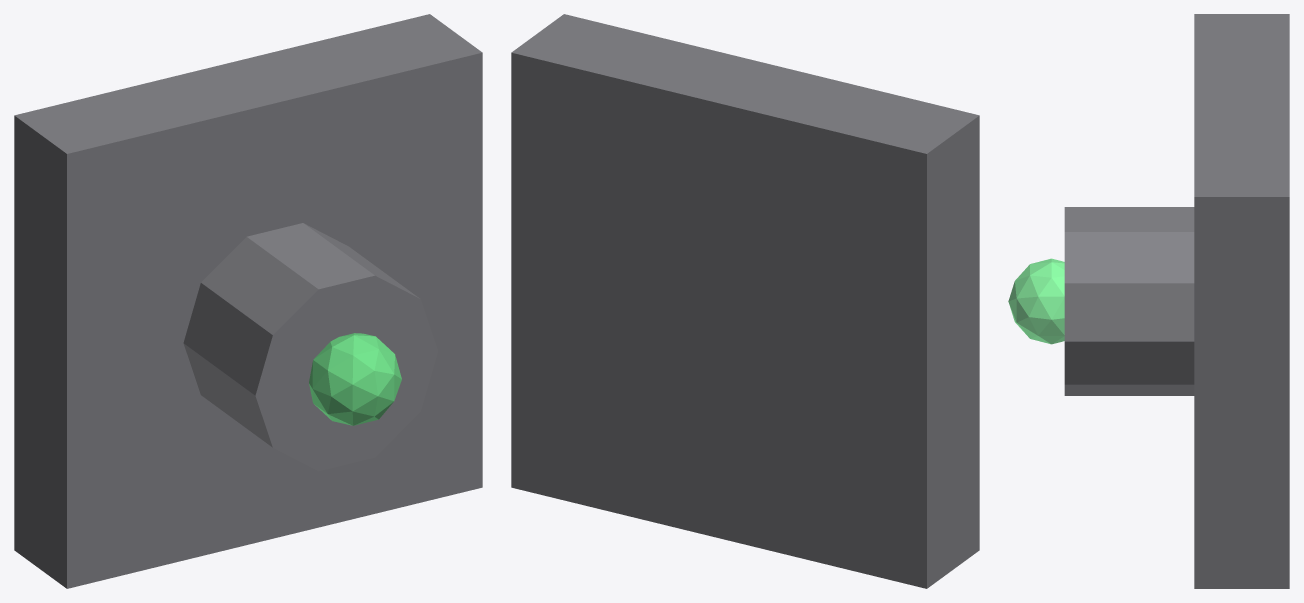
Rendered from elemental_orb_socket.glb.
3 renders of one model, left to right at view 1: azimuth 30°, elevation 25°; view 2: azimuth 150°, elevation 25°; view 3: azimuth 270°, elevation 25°, orthographic. The views are drawn at different scales.
Visible parts, largest first — view 1: puzzle_base, key_socket, socket_glow; view 2: puzzle_base; view 3: puzzle_base, key_socket, socket_glow.
Boxes of the visible parts, bbox=[...] form: puzzle_base: bbox=[14, 14, 482, 588]; key_socket: bbox=[183, 223, 438, 471]; socket_glow: bbox=[309, 333, 401, 425]; puzzle_base: bbox=[511, 14, 979, 588]; puzzle_base: bbox=[1194, 14, 1289, 588]; key_socket: bbox=[1064, 207, 1194, 395]; socket_glow: bbox=[1008, 258, 1064, 344].
Bounding box in the file's own units: 1 × 1 × 0.65.
